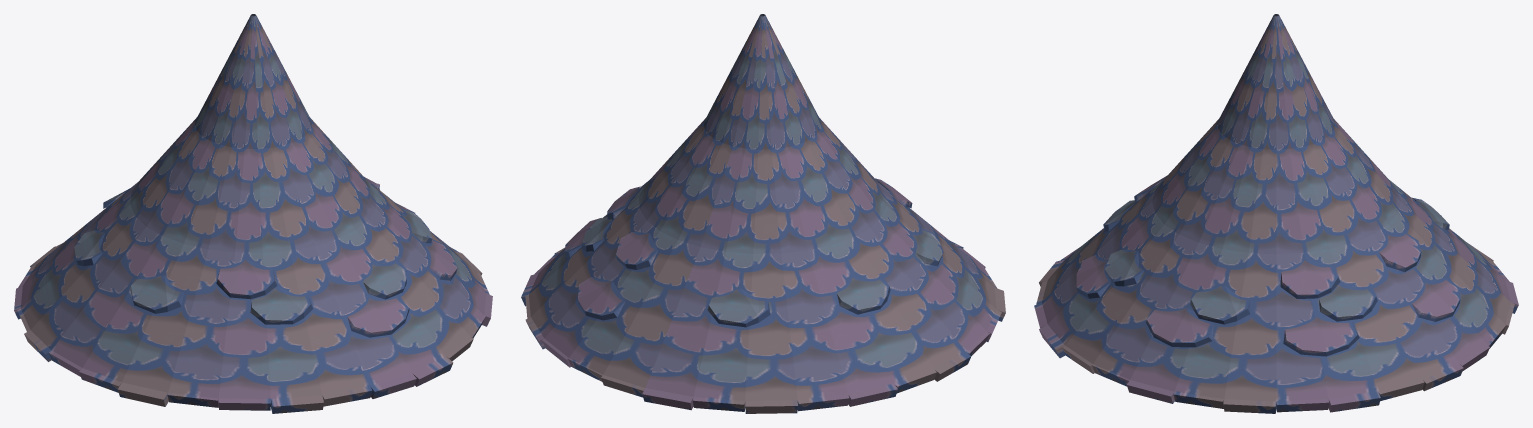
File: Telhado_Rico.fbx
The picture shows the model from 3 angles, left to right: view 1: azimuth 30°, elevation 25°; view 2: azimuth 150°, elevation 25°; view 3: azimuth 270°, elevation 25°; orthographic projection.
Visible parts, largest first — view 1: Telhado_Torre; view 2: Telhado_Torre; view 3: Telhado_Torre.
Boxes of the visible parts, x1,y1,x2,y2 form: Telhado_Torre: [14, 14, 492, 413]; Telhado_Torre: [521, 14, 1005, 413]; Telhado_Torre: [1034, 14, 1518, 413].
Bounding box in the file's own units: 994 × 681 × 998.
